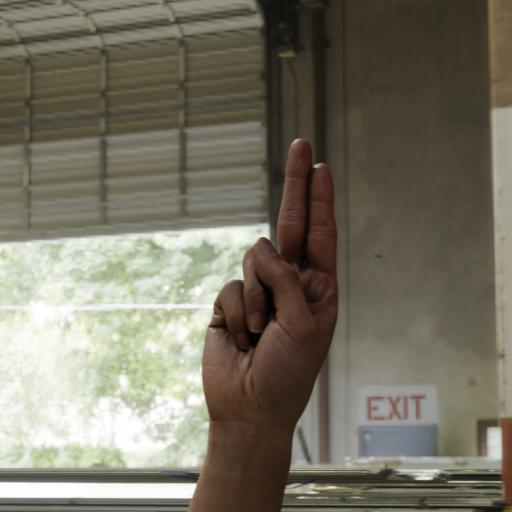U: (196, 112, 365, 439)
